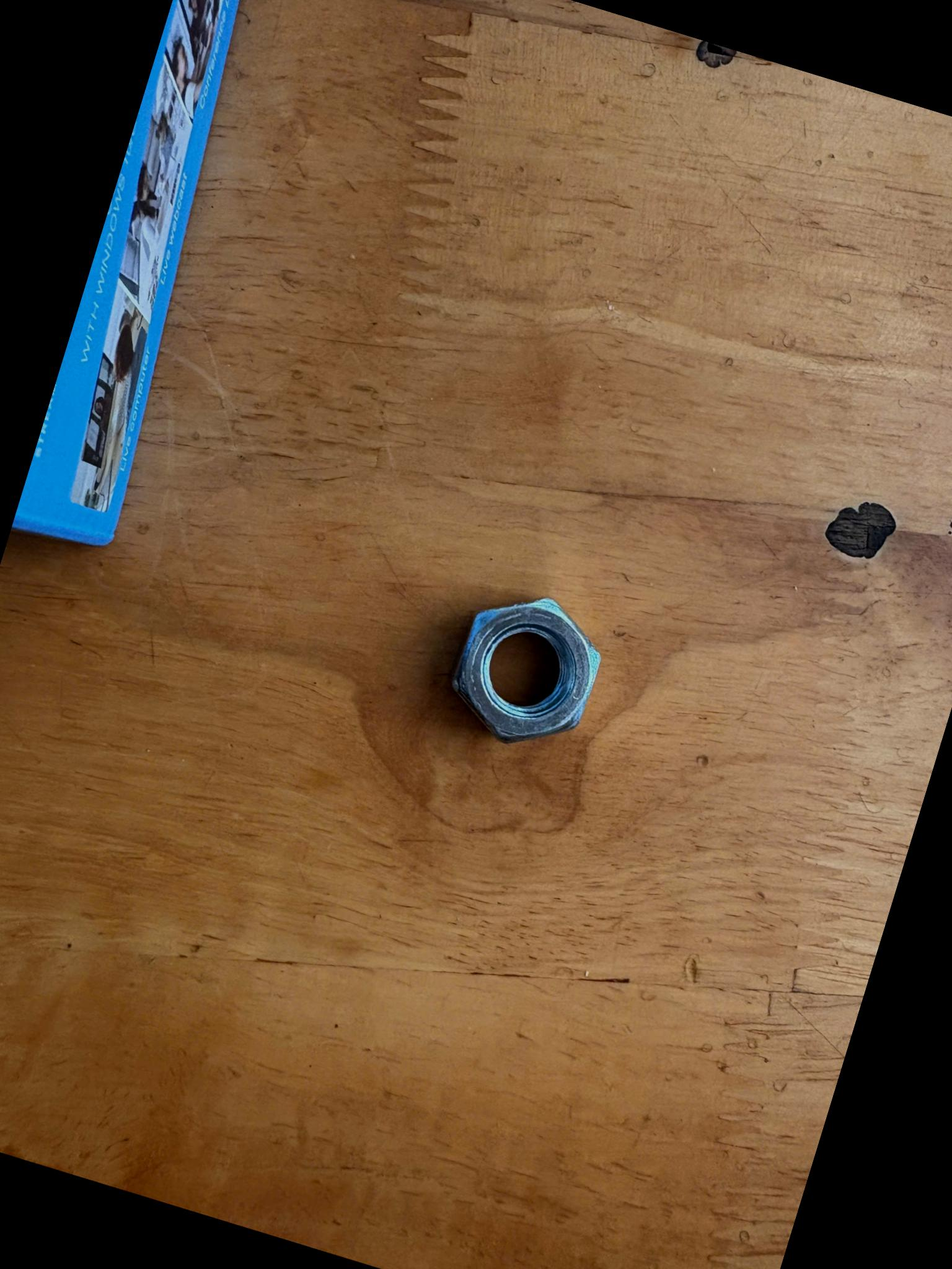nut: (405, 557, 635, 783)
